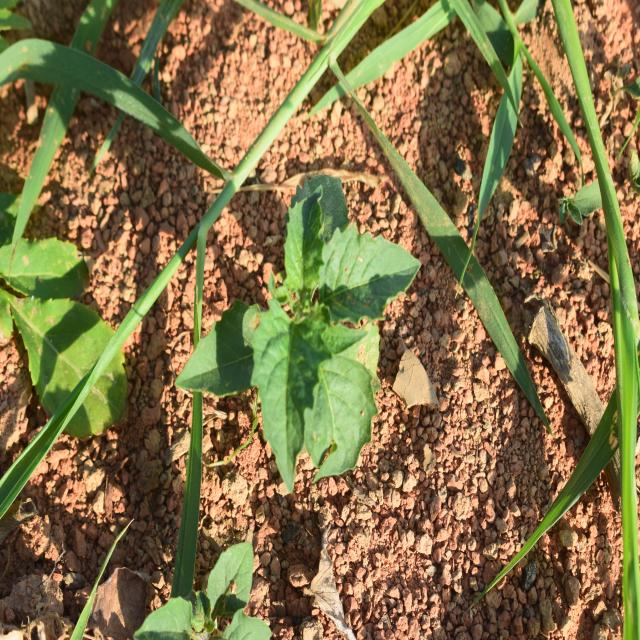Black_nightshade: (216, 180, 424, 481)
